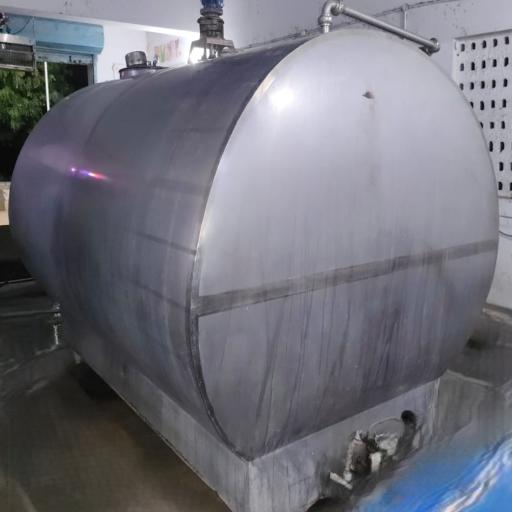silo: (9, 28, 499, 511)
